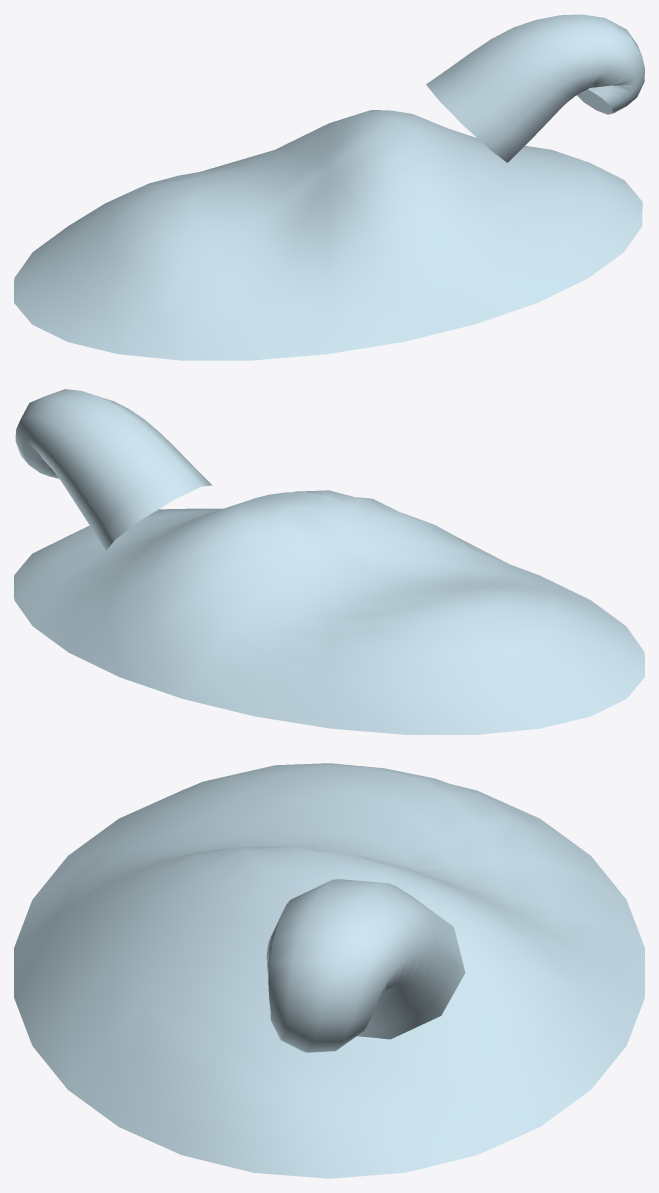
The model's file is SnowDrift.glb.
3 views of the same model, one above another, from view 1: azimuth 30°, elevation 25°; view 2: azimuth 150°, elevation 25°; view 3: azimuth 270°, elevation 25° (orthographic). The views are drawn at different scales.
Parts seen in each view (by area): view 1: SnowDrift; view 2: SnowDrift; view 3: SnowDrift.
Part boxes in pixels (box(x1,y1,x2,y2)): SnowDrift: box(14, 14, 644, 360); SnowDrift: box(14, 389, 644, 734); SnowDrift: box(14, 763, 644, 1178).
Bounding box in the file's own units: 9.41 × 2.51 × 5.96.
1 material, 1 textured.
